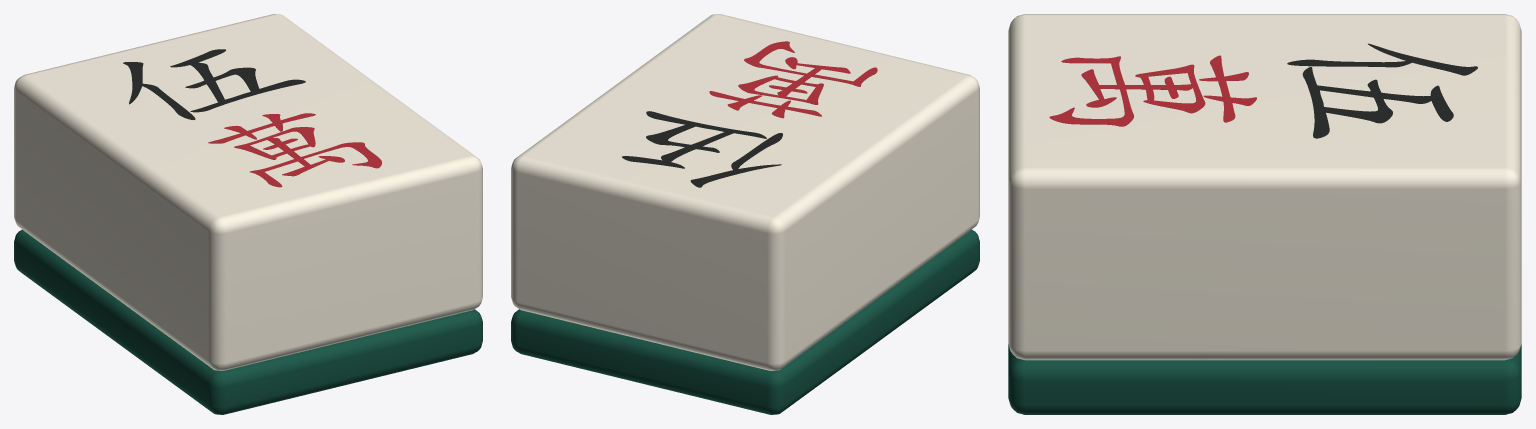
Rendered from wan-05.glb.
3 renders of one model, left to right at view 1: azimuth 30°, elevation 25°; view 2: azimuth 150°, elevation 25°; view 3: azimuth 270°, elevation 25°, orthographic. The views are drawn at different scales.
Visible parts, largest first — view 1: wan-05_ivory, wan-05_back, wan-05_face_inlays; view 2: wan-05_ivory, wan-05_back, wan-05_face_inlays; view 3: wan-05_ivory, wan-05_back, wan-05_face_inlays.
Part boxes in pixels (box(x1,y1,x2,y2)): wan-05_ivory: box(14, 14, 482, 370); wan-05_back: box(14, 229, 482, 414); wan-05_face_inlays: box(123, 49, 381, 187); wan-05_ivory: box(511, 14, 979, 370); wan-05_back: box(511, 229, 979, 414); wan-05_face_inlays: box(622, 41, 877, 187); wan-05_ivory: box(1008, 14, 1521, 360); wan-05_back: box(1008, 344, 1521, 414); wan-05_face_inlays: box(1049, 43, 1477, 138).
Bounding box in the file's own units: 0.026 × 0.018 × 0.034.
